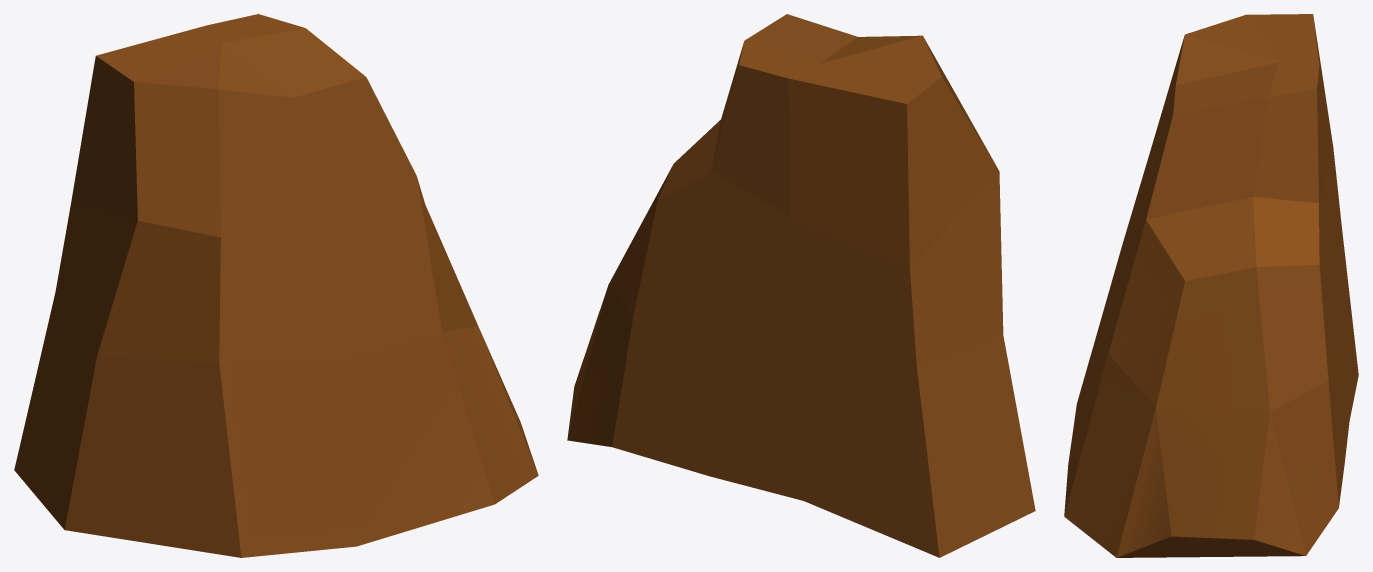
File: HardRock_38.fbx
3 views of the same model, side by side, from view 1: azimuth 30°, elevation 25°; view 2: azimuth 150°, elevation 25°; view 3: azimuth 270°, elevation 25° (orthographic). The views are drawn at different scales.
Parts seen in each view (by area): view 1: HardRock_38; view 2: HardRock_38; view 3: HardRock_38.
Part boxes in pixels (x1=…): HardRock_38: x1=14, y1=14, x2=538, y2=557; HardRock_38: x1=567, y1=14, x2=1035, y2=557; HardRock_38: x1=1064, y1=14, x2=1358, y2=557.
Size of the model in its own units: 136 by 126 by 84.85.
